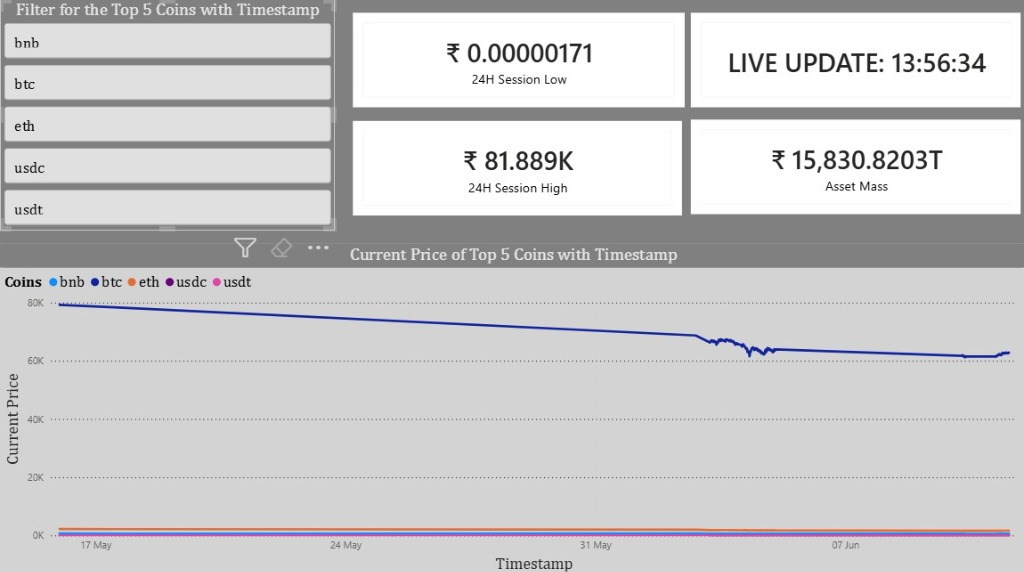

The dashboard page shown, as its layout file describes it:
{"tool":"powerbi","page":{"name":"Pg 2","canvas":[1280,720],"ordinal":1},"visuals":[{"type":"cardVisual","fields":{"Data":["crypto_prices.Live System Time"]},"box":[856.7,11.7,423.3,128.3],"z":0},{"type":"cardVisual","fields":{"Data":["crypto_prices.Total Asset Mass"]},"box":[856.7,145,423.3,128.3],"z":1000},{"type":"lineChart","title":" Current Price of Top 5  Coins with Timestamp","fields":{"Category":["crypto_prices.timestamp"],"Y":["Avg(crypto_prices.current_price)"],"Series":["crypto_prices.symbol"]},"box":[0,305,1281.7,415],"z":2000},{"type":"advancedSlicerVisual","title":"Filter for the Top 5 Coins with Timestamp","fields":{"Values":["crypto_prices.symbol"]},"box":[0,0,418.3,287.9],"z":3000},{"type":"cardVisual","fields":{"Data":["Min(crypto_prices.low_24h)"]},"box":[434.2,11.1,424.7,128.8],"z":4000},{"type":"cardVisual","fields":{"Data":["Max(crypto_prices.high_24h)"]},"box":[435,146.7,421.7,128.3],"z":5000}]}

Visuals, with their boxes in screenshot pixels (x1, y1, x2, y2), scaled from the page's 1280x720 canvas onto the 1024x572 screenshot:
cardVisual - crypto_prices.Live System Time: bbox=[685, 9, 1023, 111]
cardVisual - crypto_prices.Total Asset Mass: bbox=[685, 115, 1023, 217]
" Current Price of Top 5  Coins with Timestamp" lineChart: bbox=[0, 242, 1023, 571]
"Filter for the Top 5 Coins with Timestamp" advancedSlicerVisual: bbox=[0, 0, 335, 229]
cardVisual - Min(crypto_prices.low_24h): bbox=[347, 9, 687, 111]
cardVisual - Max(crypto_prices.high_24h): bbox=[348, 117, 685, 218]
